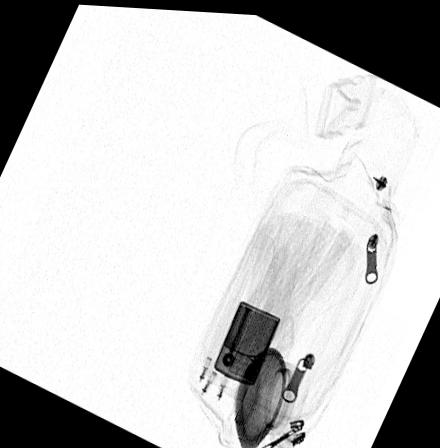Lighter: (213, 298, 281, 383)
